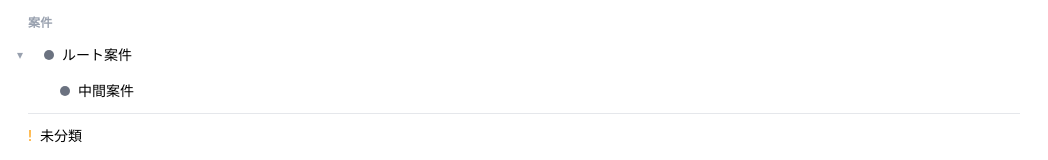
Test case: ProjectTree nested rendering › renders children indented under expanded parent and hides when collapsed
Expected: the text "ルート案件" is shown, [62,45,132,65]
Expected: the text "中間案件" is shown, [78,81,134,101]
Note: シェブロンをクリックすると mid が消える
Click the button named "ルート案件を折りたたむ": (20, 55) [12,43,28,67]
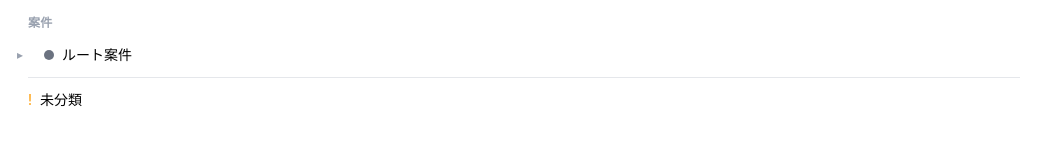
Expected: the button "中間案件" is gone
